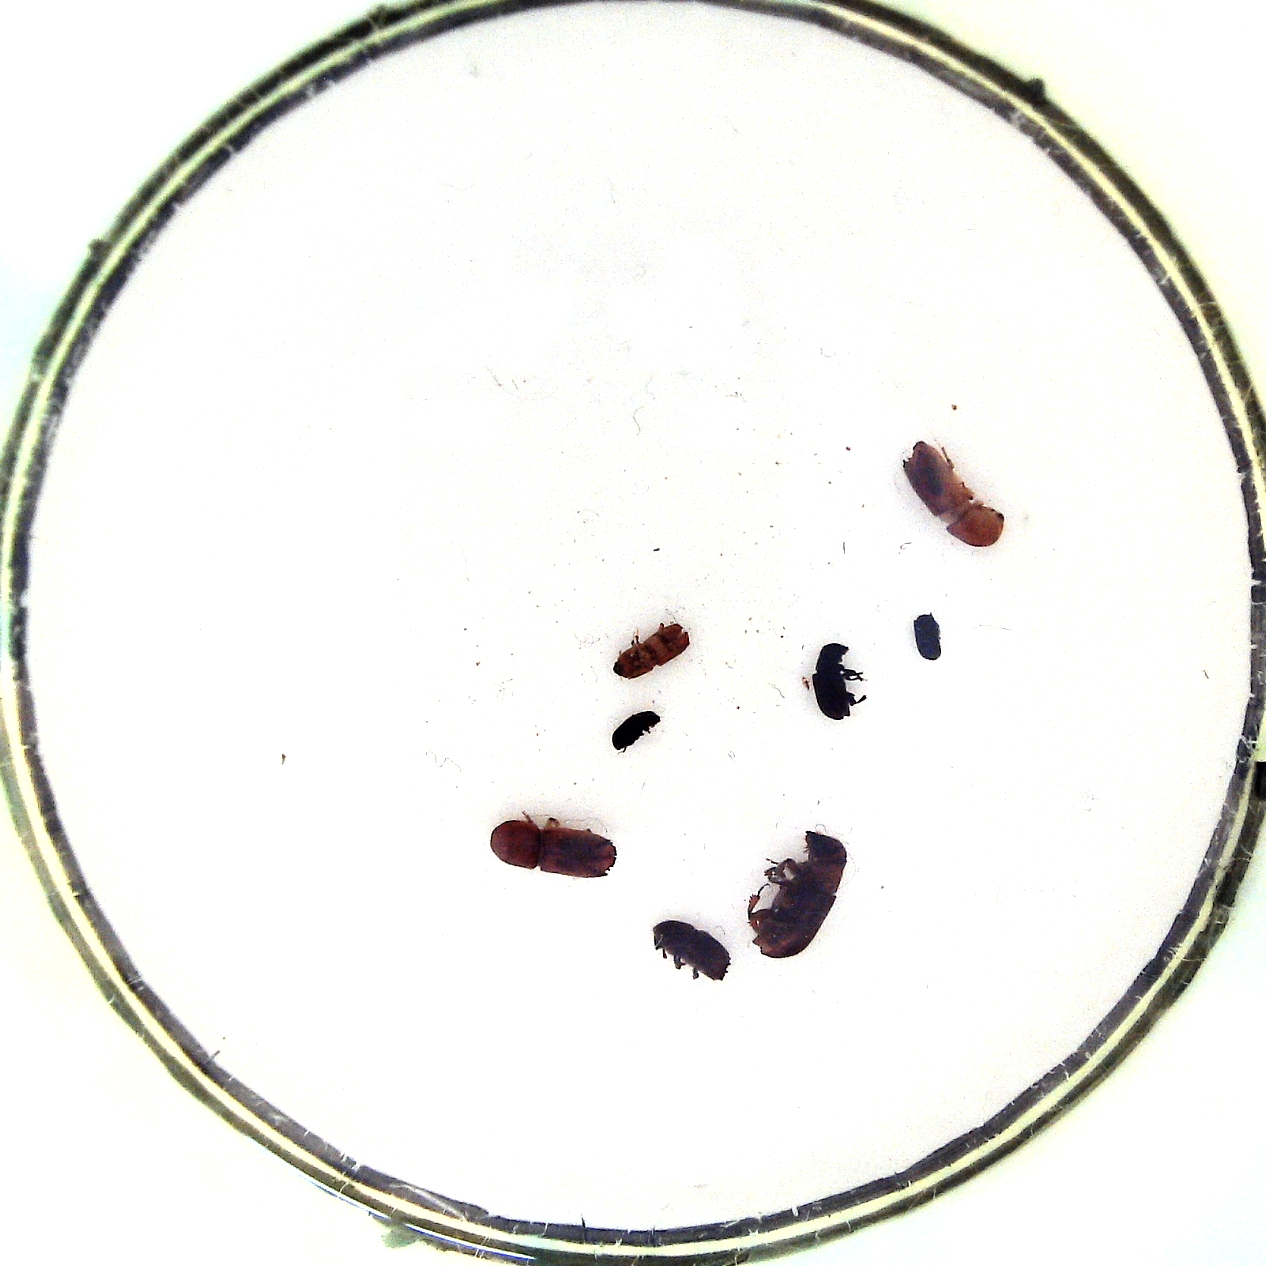Boerner: (904, 432, 1004, 552), (488, 808, 624, 885)
Leconte: (745, 829, 854, 956)
Linnaeus: (652, 905, 736, 985)
acuminatus: (606, 606, 693, 683)
armandi: (809, 638, 867, 726)
coleoptera: (609, 705, 662, 764), (914, 607, 944, 667)
